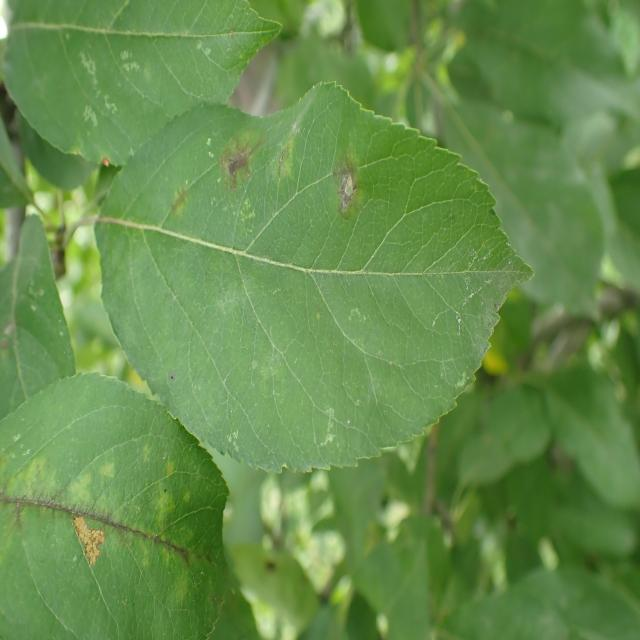scab: (120, 122, 514, 379), (0, 438, 209, 612)
